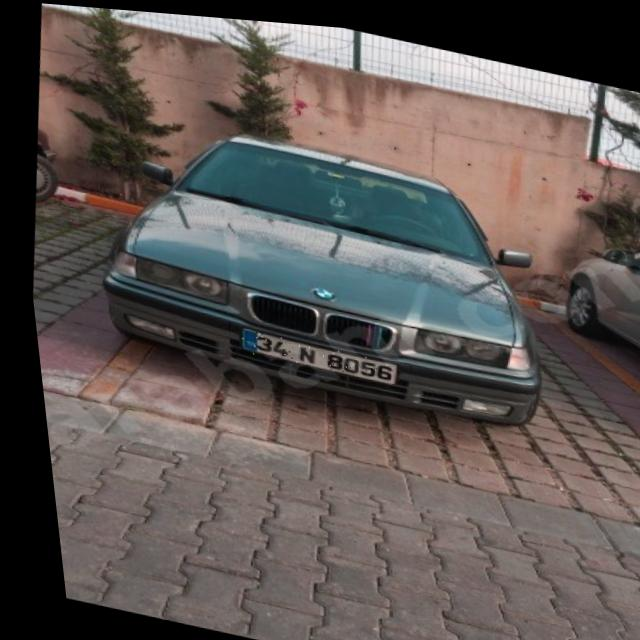license_plate: (232, 325, 392, 381)
